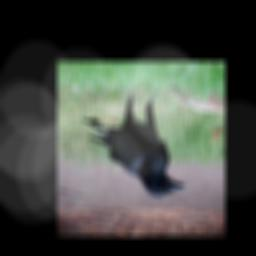Crow: (82, 88, 187, 198)
